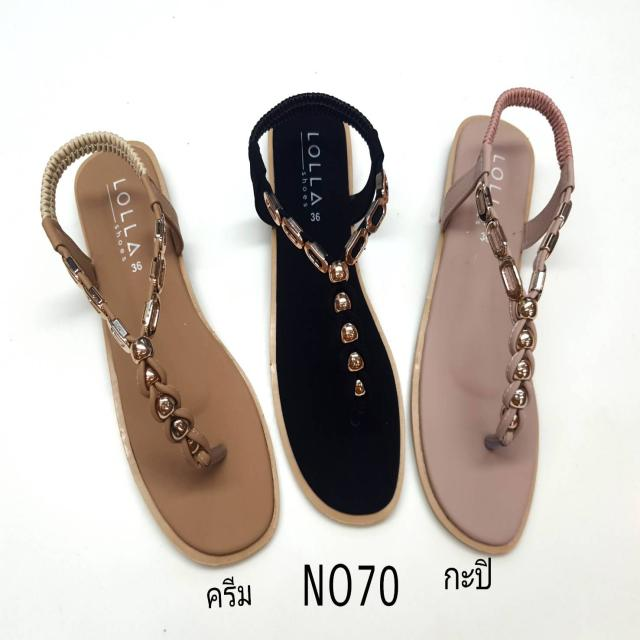black: (273, 97, 400, 524)
cream: (76, 141, 275, 564)
kapi: (417, 120, 537, 546)
